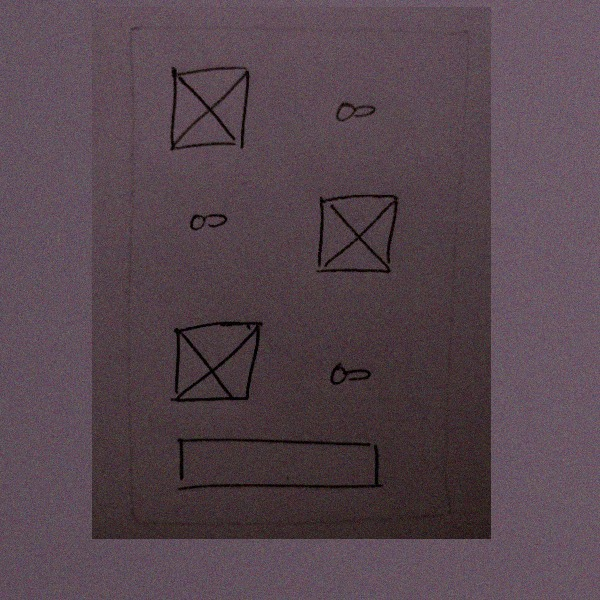image: (305, 186, 406, 280), (164, 61, 257, 157), (167, 319, 266, 409)
switch: (179, 201, 238, 242), (317, 352, 379, 391), (325, 87, 382, 129)
text_input: (169, 430, 389, 501)
